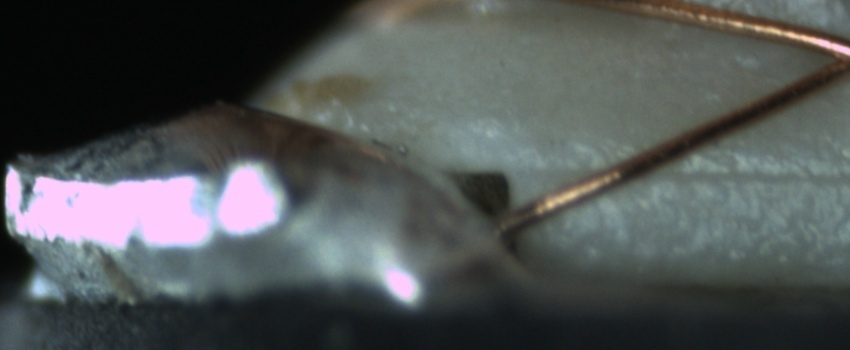CL: (801, 28, 849, 89)
DL: (537, 139, 850, 205)
